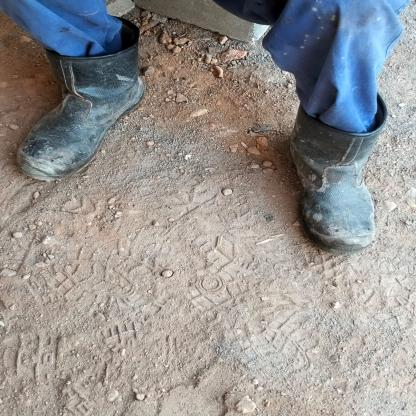bota: (16, 13, 154, 182), (286, 96, 387, 247)
